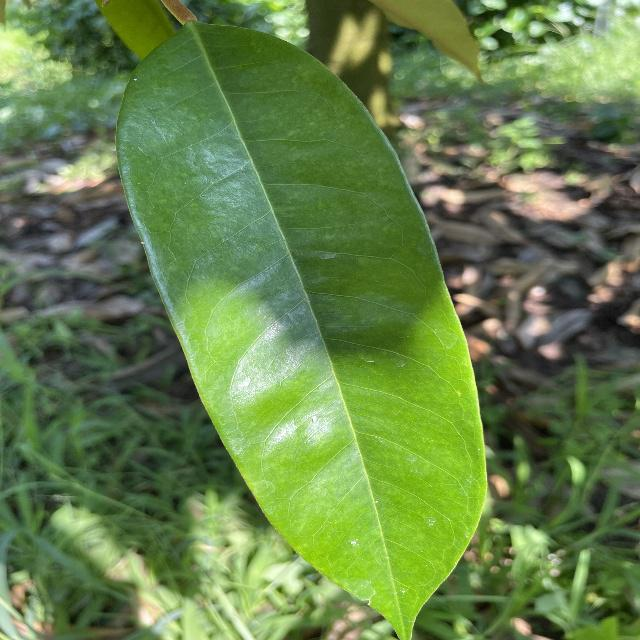No Disease: (107, 13, 496, 639)
